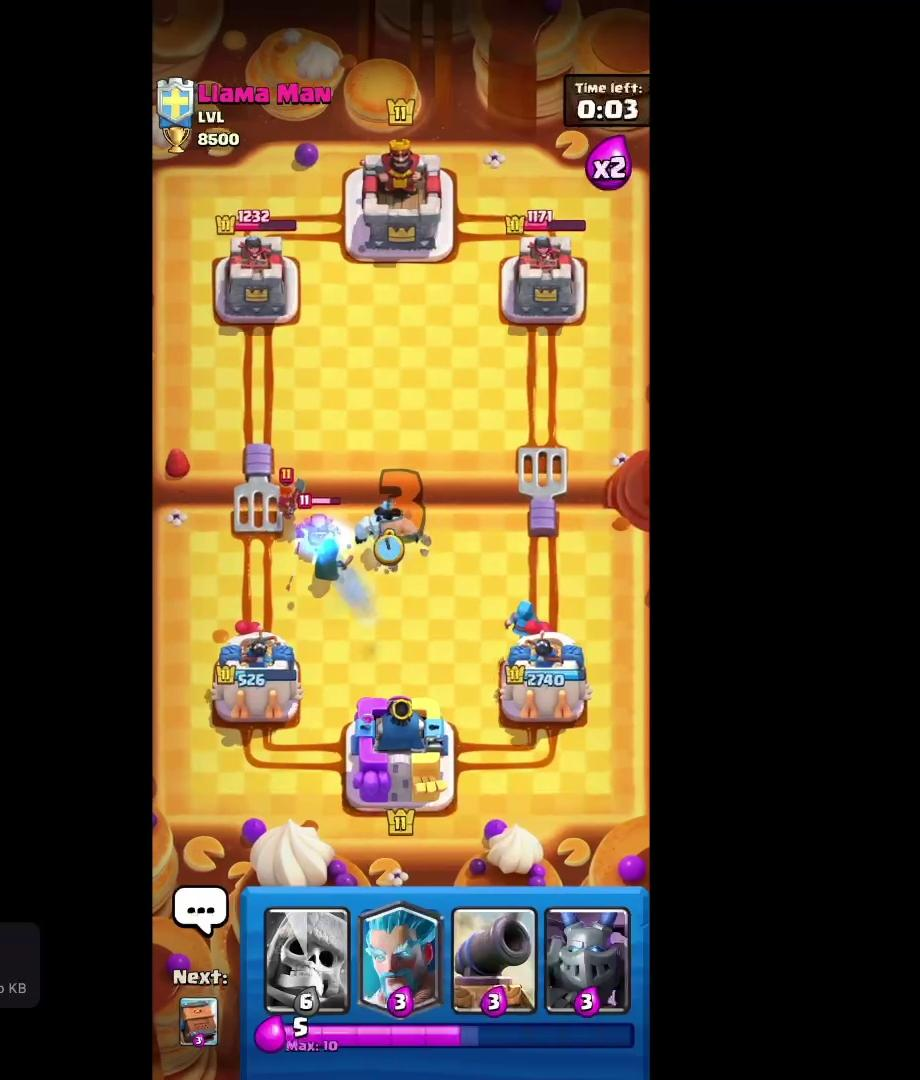Mini Pekka: (292, 491, 346, 560)
Valkyrie: (270, 459, 312, 519)
